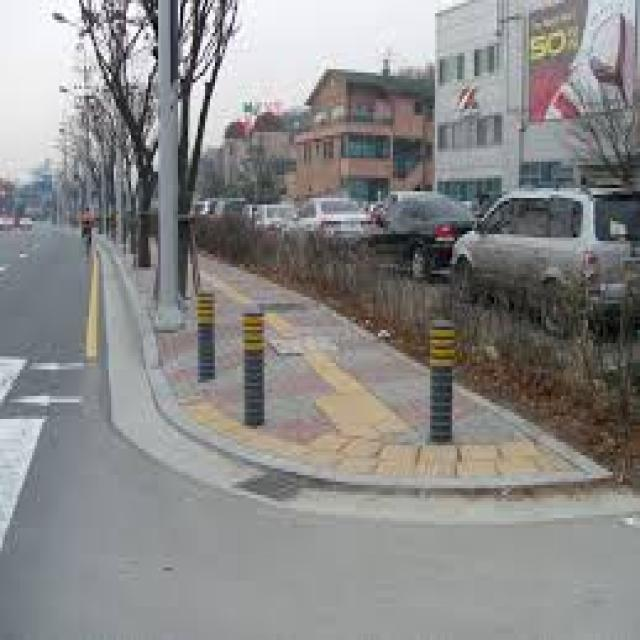bollard: (428, 307, 460, 460), (237, 292, 268, 431), (188, 279, 220, 387)
